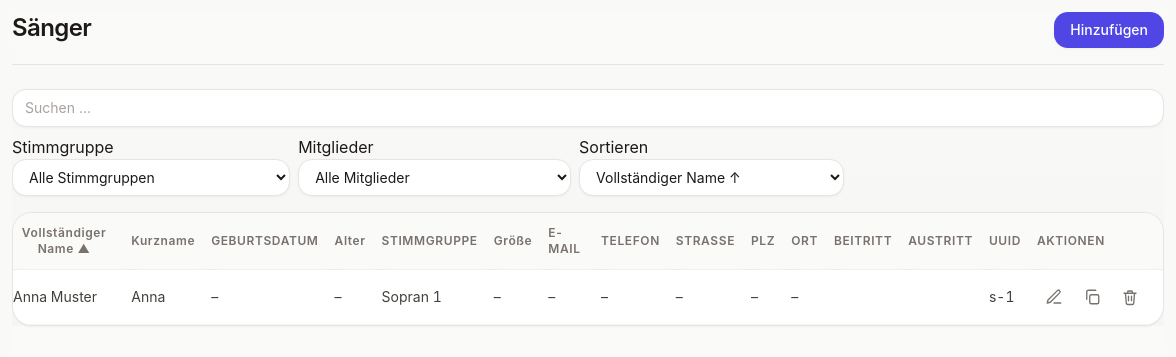
SingersPage mutations › deletes a singer after confirm
This screenshot has width=1176, height=357.
Check: the text "Anna Muster" is shown, box 13,270 -> 131,324
Click the button named "Löschen": (1130, 297) 1113,280 -> 1147,314
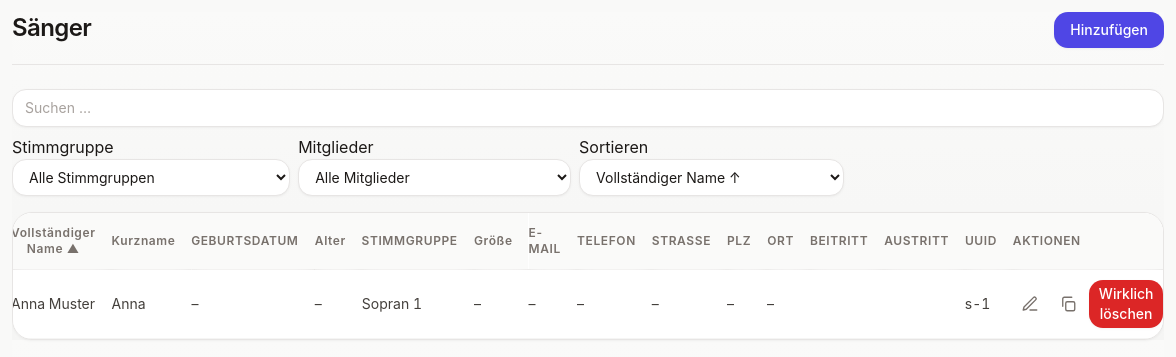
Click the button "Wirklich löschen": (1126, 304) 1089,280 -> 1164,328
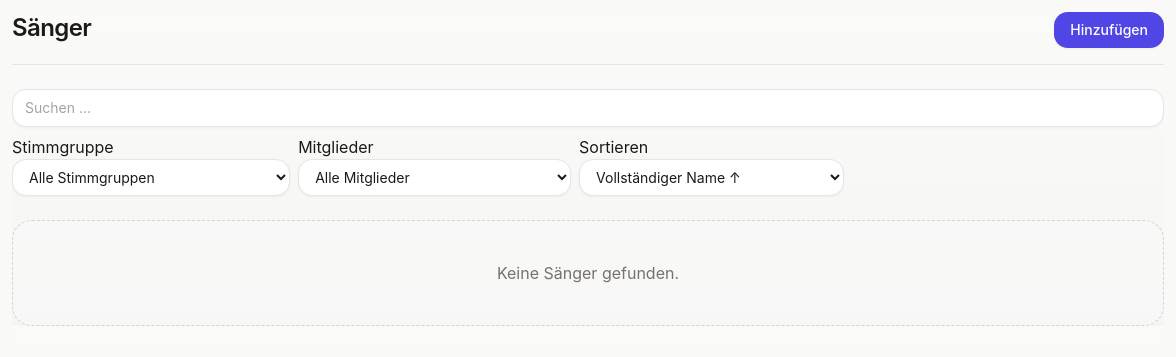
Check: the text "Anna Muster" is gone
